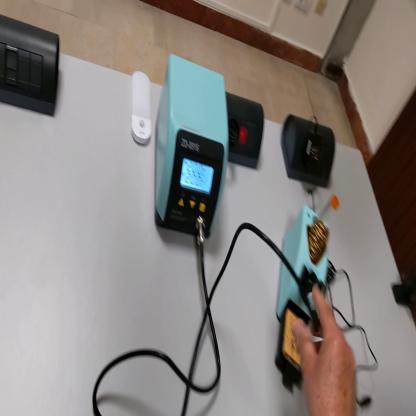hand: (292, 284, 357, 415)
socket: (281, 110, 338, 192), (225, 89, 266, 172)
welder base: (277, 198, 340, 388)
welder probe tip: (303, 269, 318, 338)
welder station: (153, 53, 227, 237)
